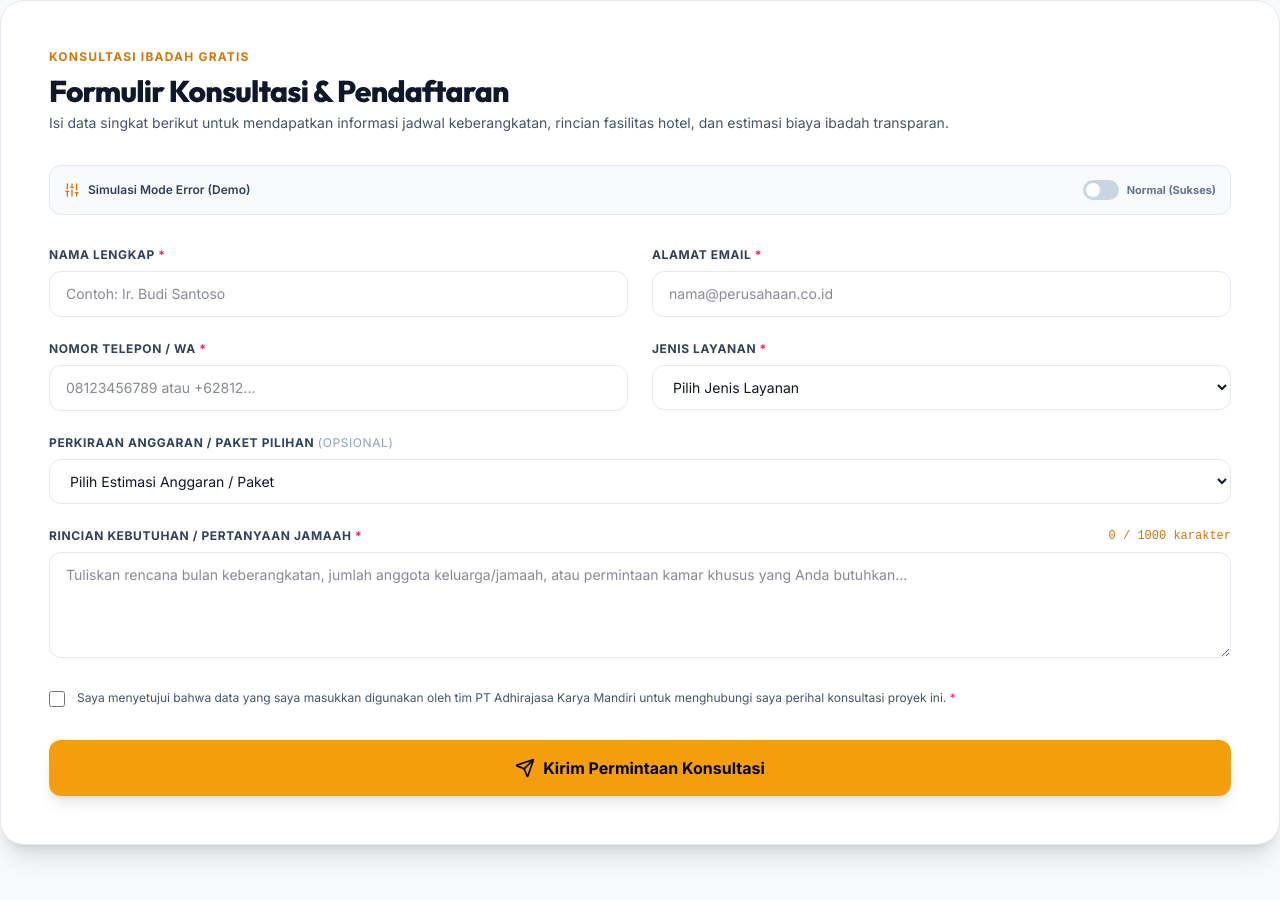
Test: ContactForm Component (FR-6.1 to FR-6.5) › displays validation error when field is blurred with invalid input (FR-6.2)
The image size is (1280, 900).
Type "Ab" into the field with id "fullName".
click(338, 294); type("Ab")  # box [49,271,628,317]
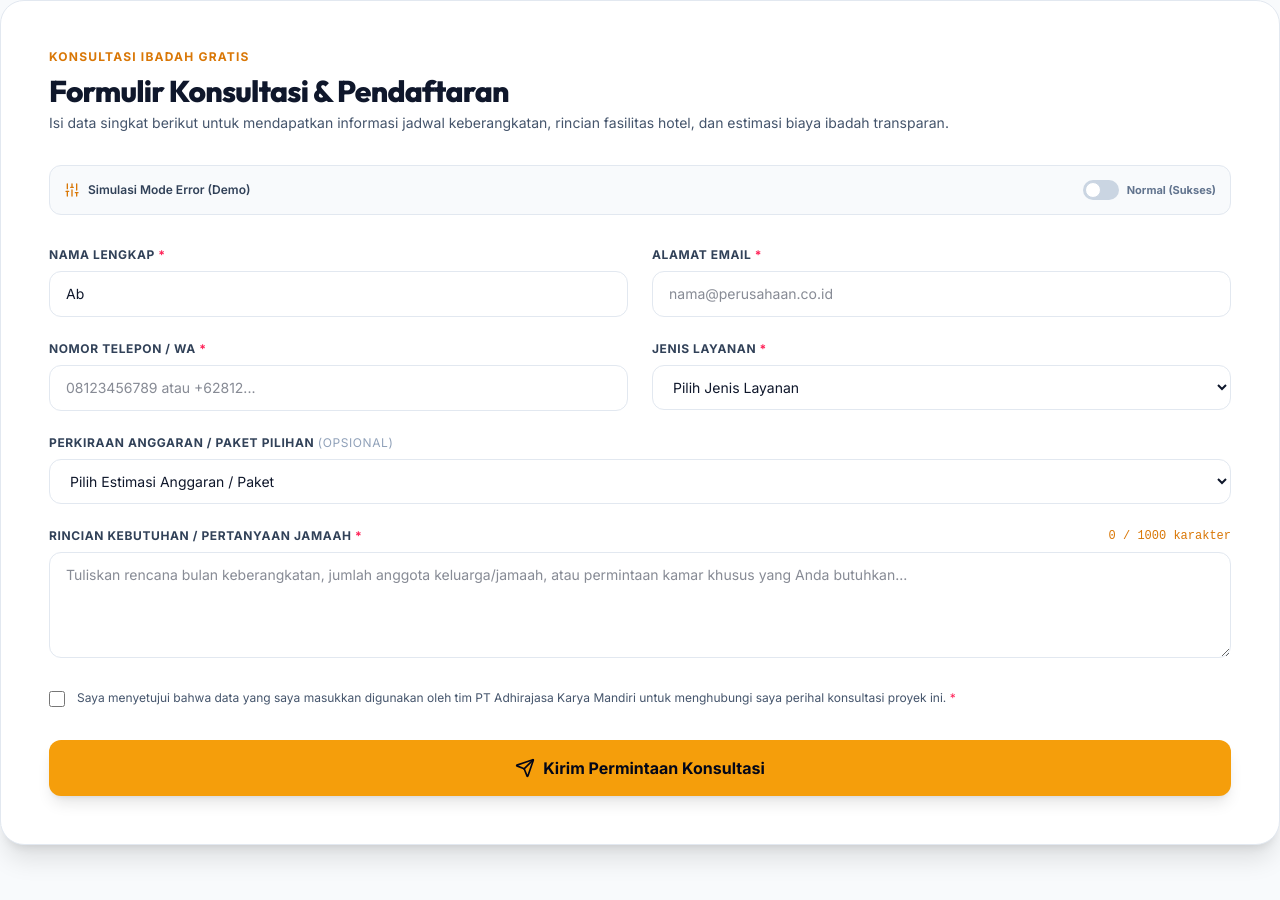
Leave the field with id "fullName", box [49,271,628,317]
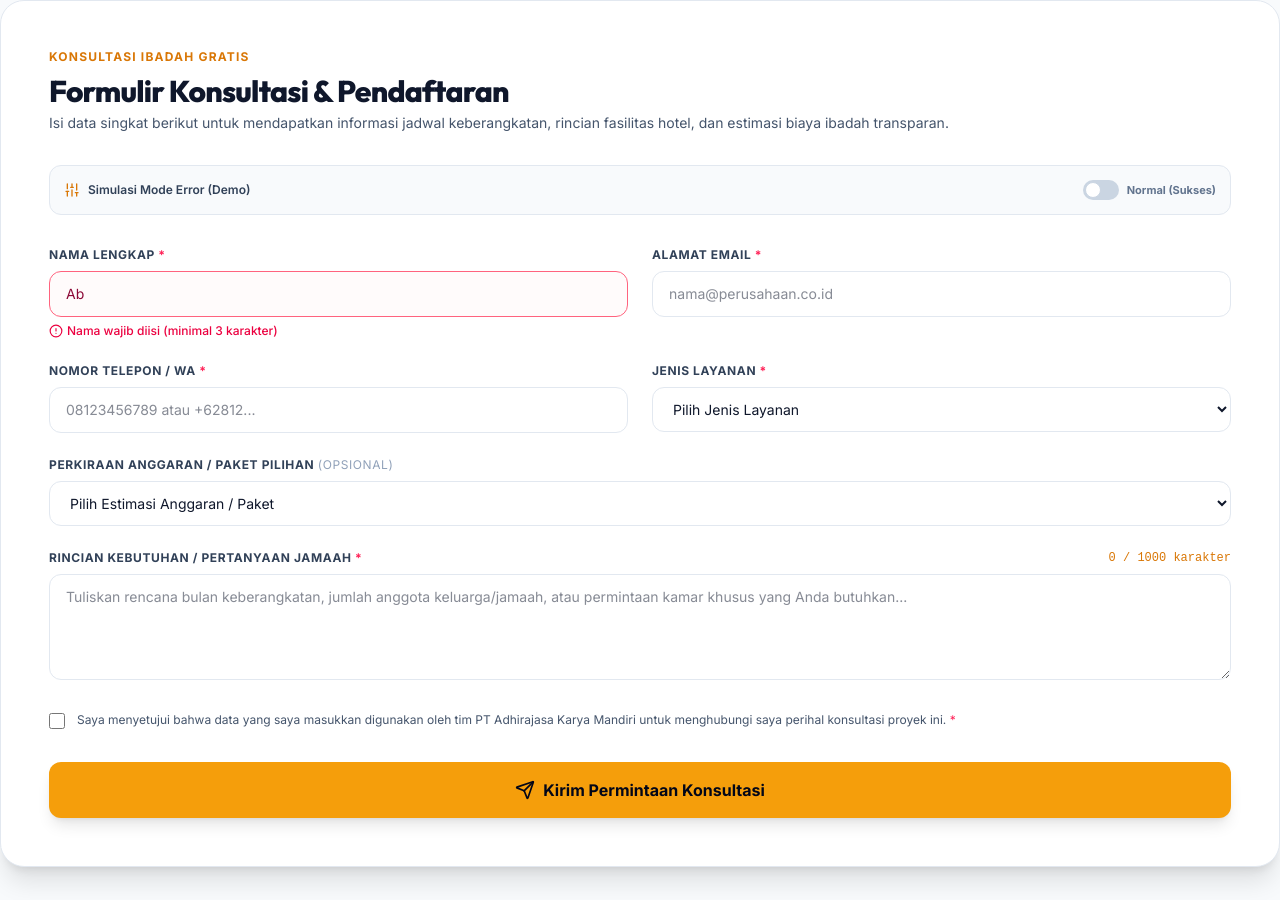
Result: the text "Nama wajib diisi (minimal 3 karakter)" is shown at [67,323,278,339]
